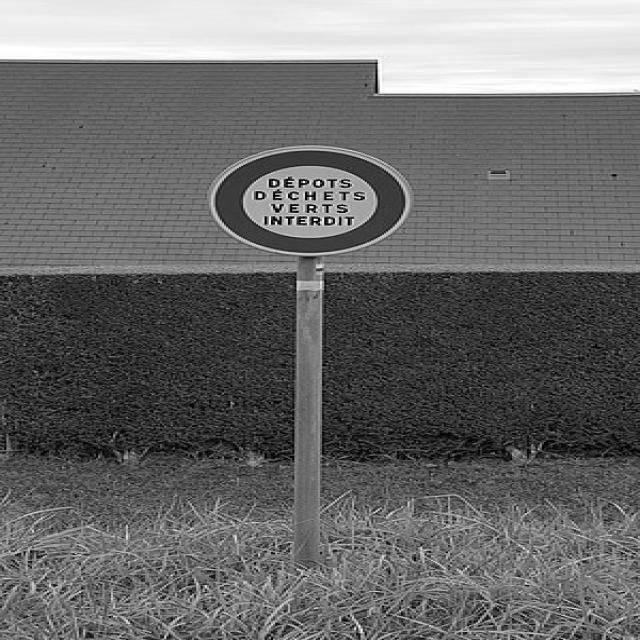forbidden: (209, 139, 415, 257)
